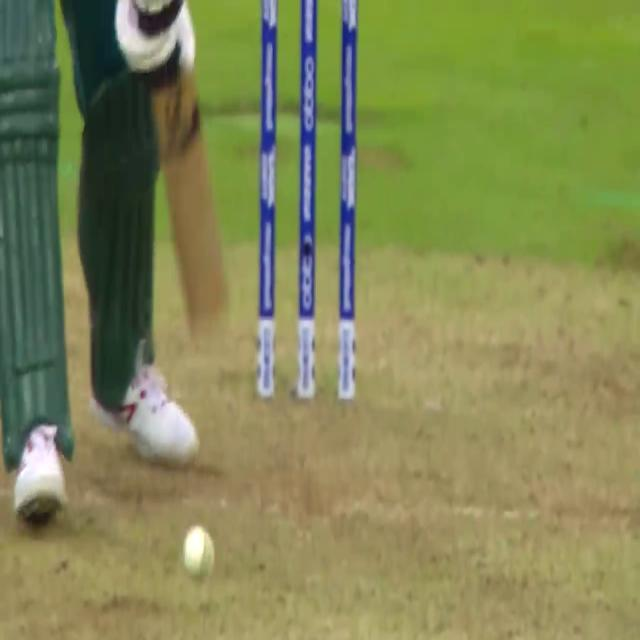ball: (180, 520, 218, 582)
